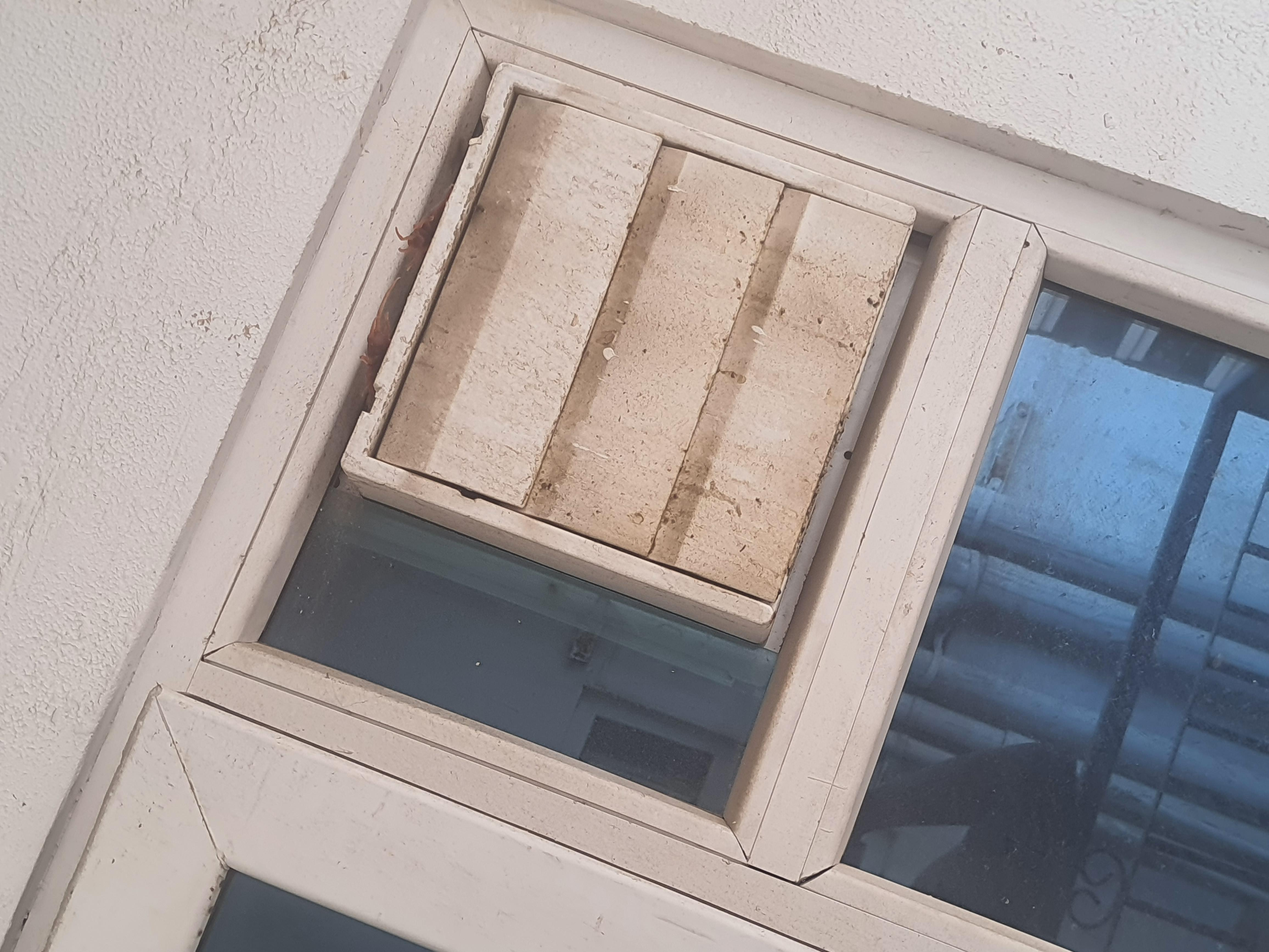cockroach: (916, 287, 1013, 338), (748, 264, 845, 301)
